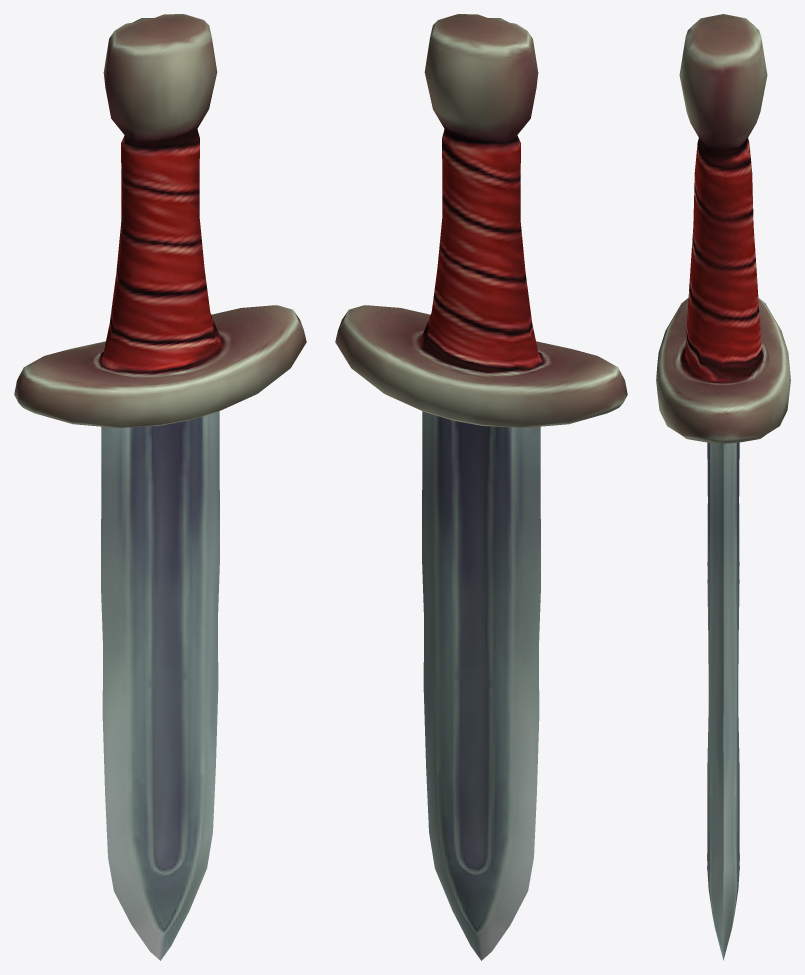
Rendered from Dagger.FBX.
3 views of the same model, side by side, from view 1: azimuth 30°, elevation 25°; view 2: azimuth 150°, elevation 25°; view 3: azimuth 270°, elevation 25° (orthographic).
Visible parts, largest first — view 1: Dagger; view 2: Dagger; view 3: Dagger.
Boxes of the visible parts, x1=… form: Dagger: x1=14, y1=14, x2=306, y2=960; Dagger: x1=335, y1=14, x2=627, y2=960; Dagger: x1=656, y1=14, x2=790, y2=960.
Size of the model in its own units: 16.27 by 6.72 by 50.97.
